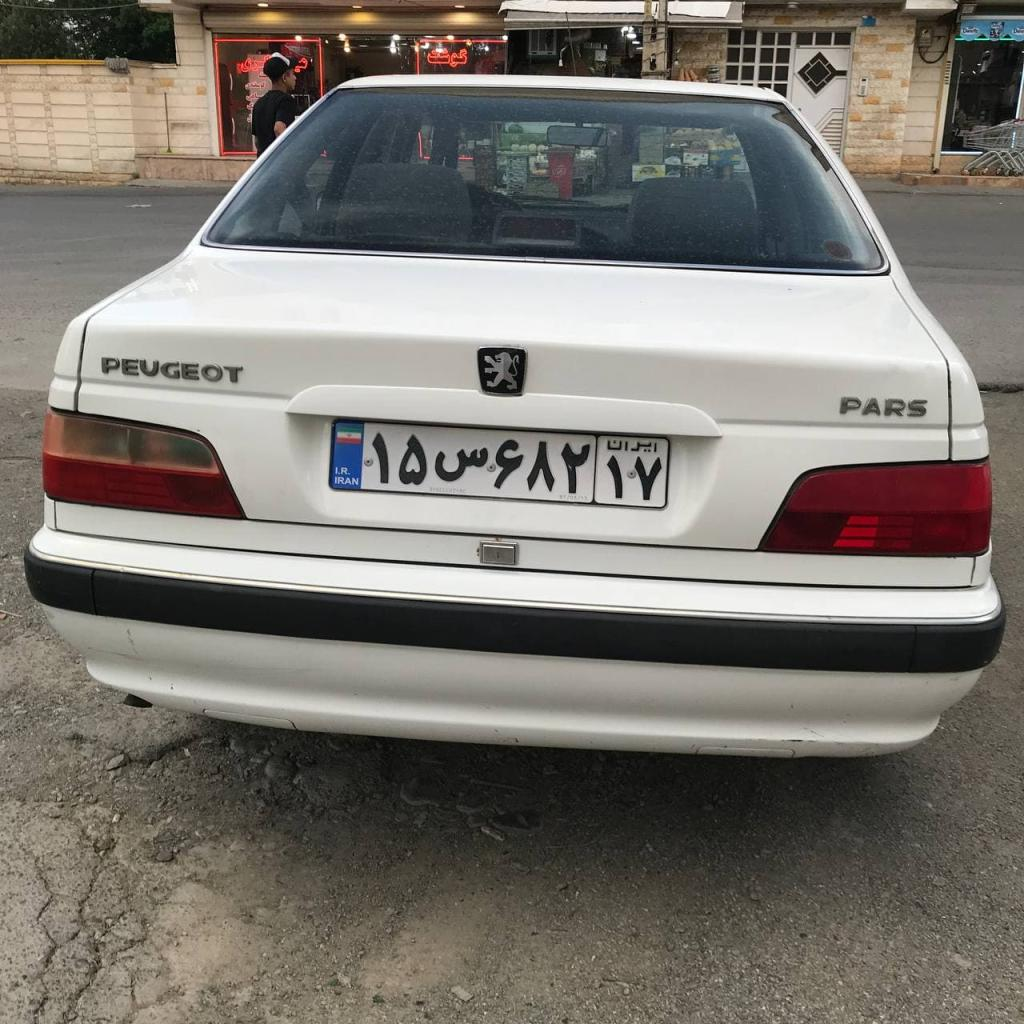Plates: (328, 417, 668, 509)
